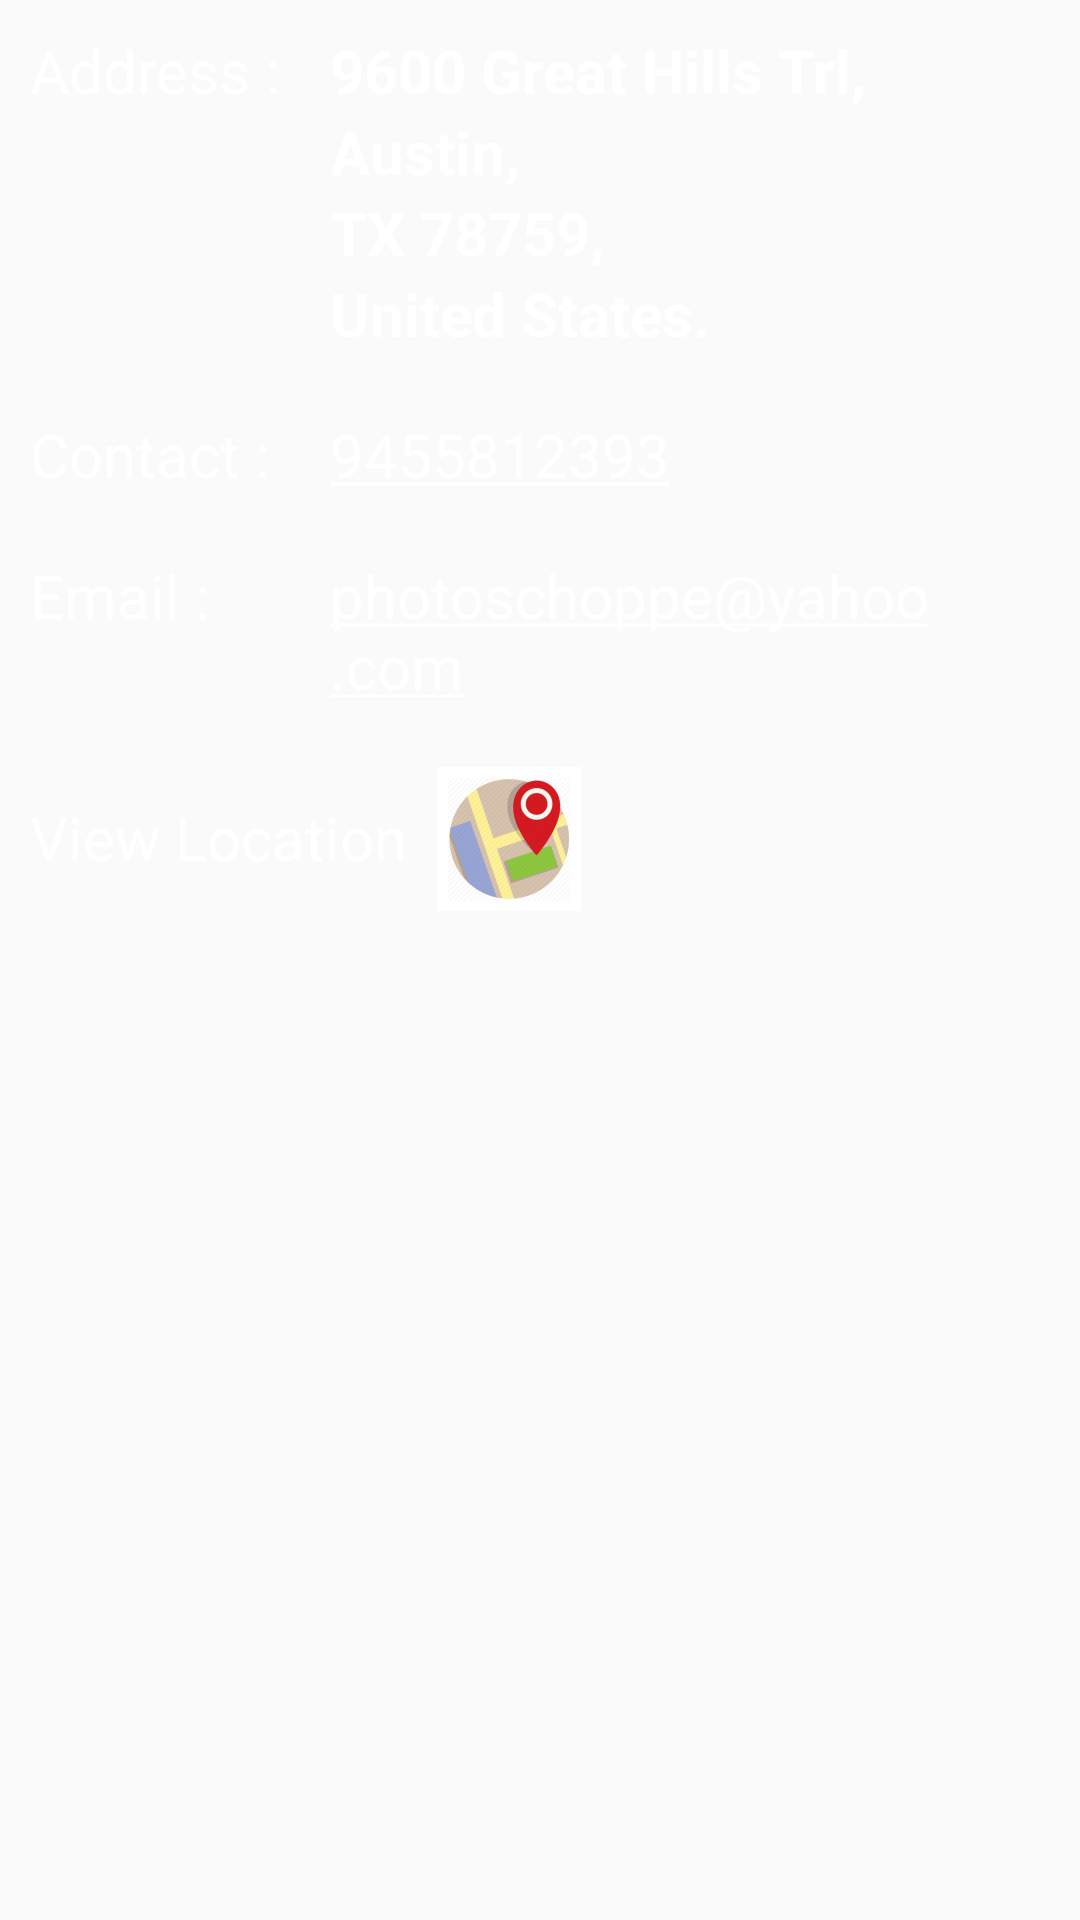

Screen size 1080×1920. Icon name, then its center in pixels as [x,y]:
locate me: [509,839]
